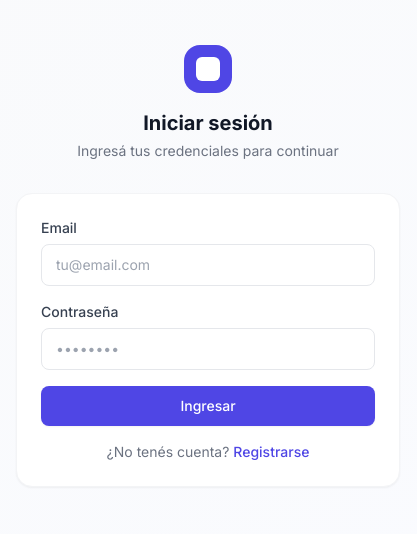
Test: AuthenticationPage › shows generic error for unknown error codes
The width and height of the screenshot is (417, 534).
Type "test@test.com" into the field labelled "Email" at (208, 265), box [41,244,375,286]
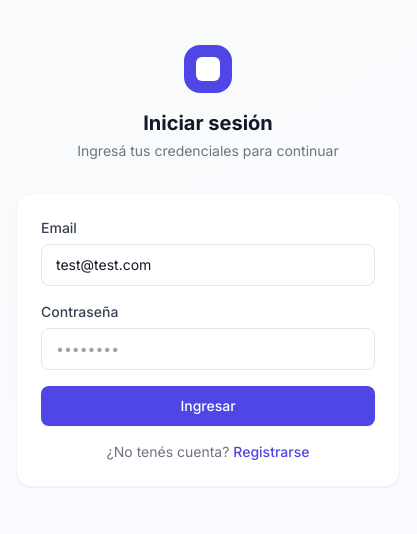
Type "123456" into the password field labelled "Contraseña" at (208, 349), box [41,328,375,370]
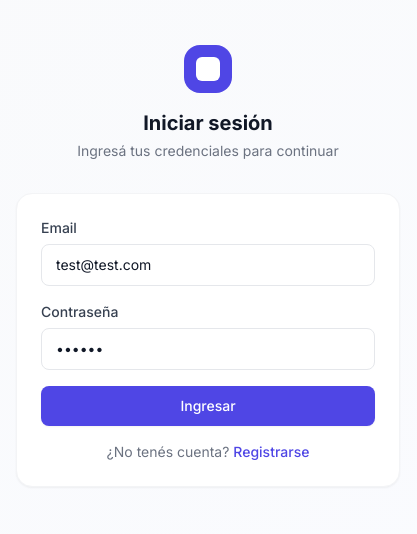
Click the button "Ingresar" at (208, 406), box [41,386,375,426]
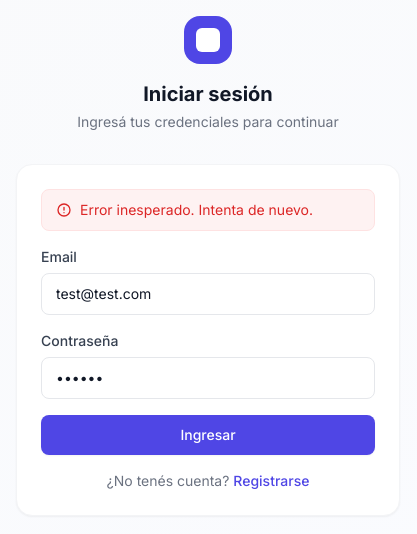
Result: the text "Error inesperado. Intenta de nuevo." is shown at [80,200,313,220]
